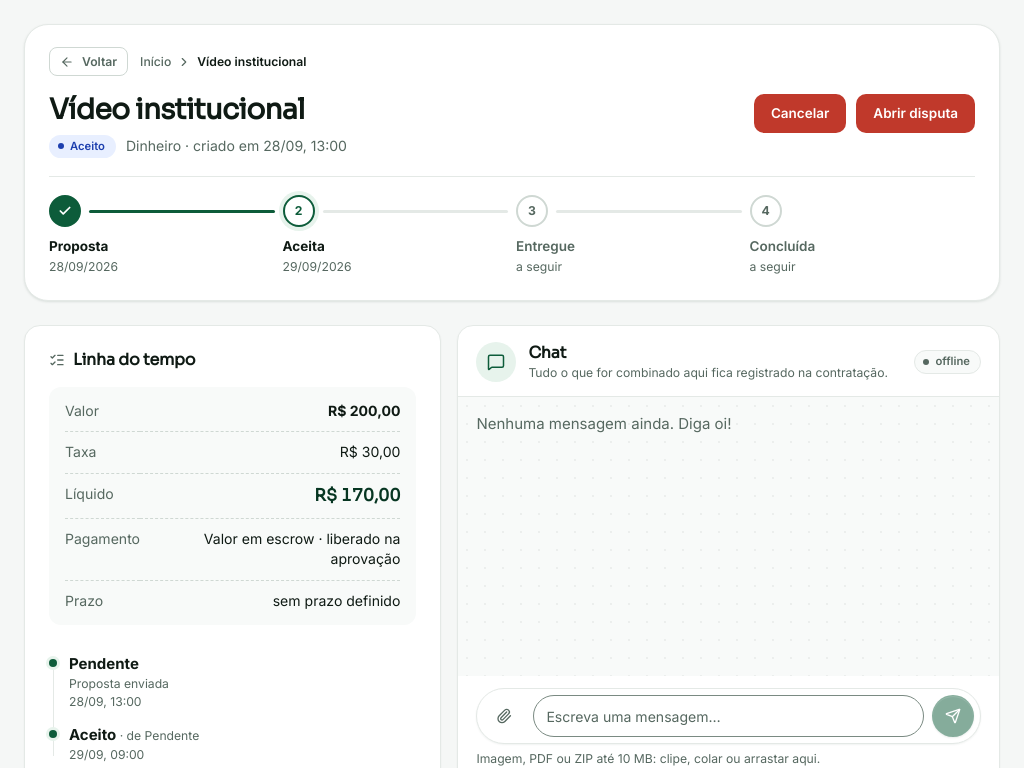
Scenario: SalaContratoView: enviar mensagem › envia o texto sem espaços nas pontas, mostra a mensagem e limpa o campo
Check: the heading "Vídeo institucional" is shown, box [49,92,305,127]
Type "  Combinado! " into the field with placeholder "Escreva uma mensagem…" at (729, 716), box [533,695,924,737]
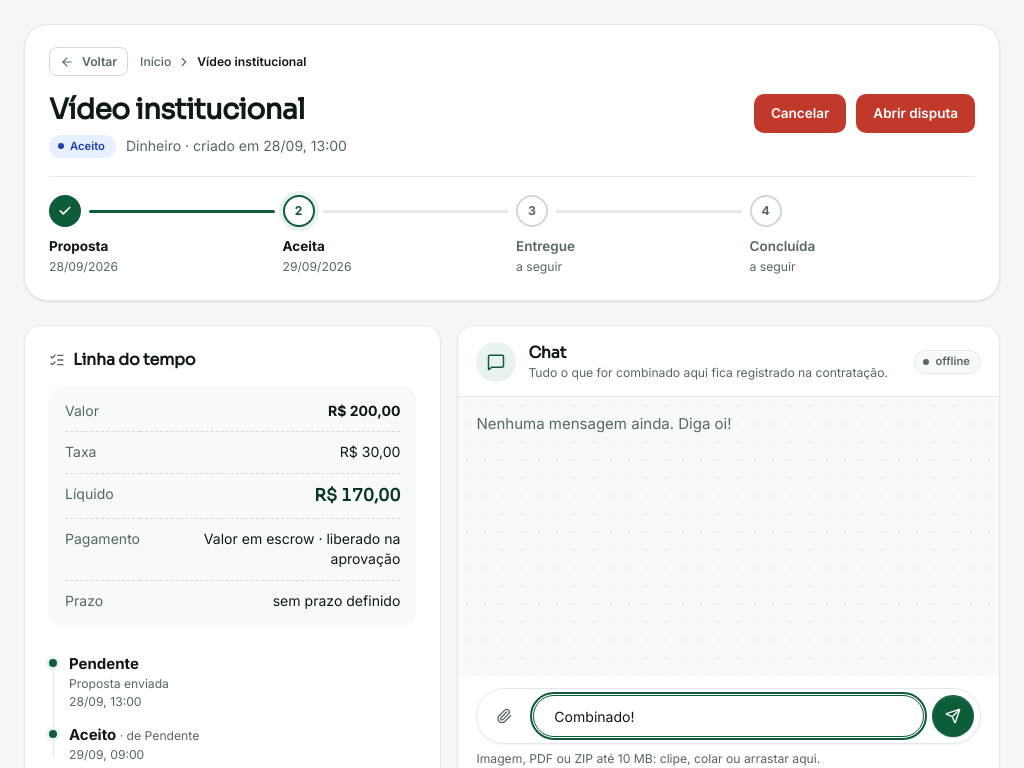
Click the button named "Enviar" at (953, 716), box [932,695,974,737]
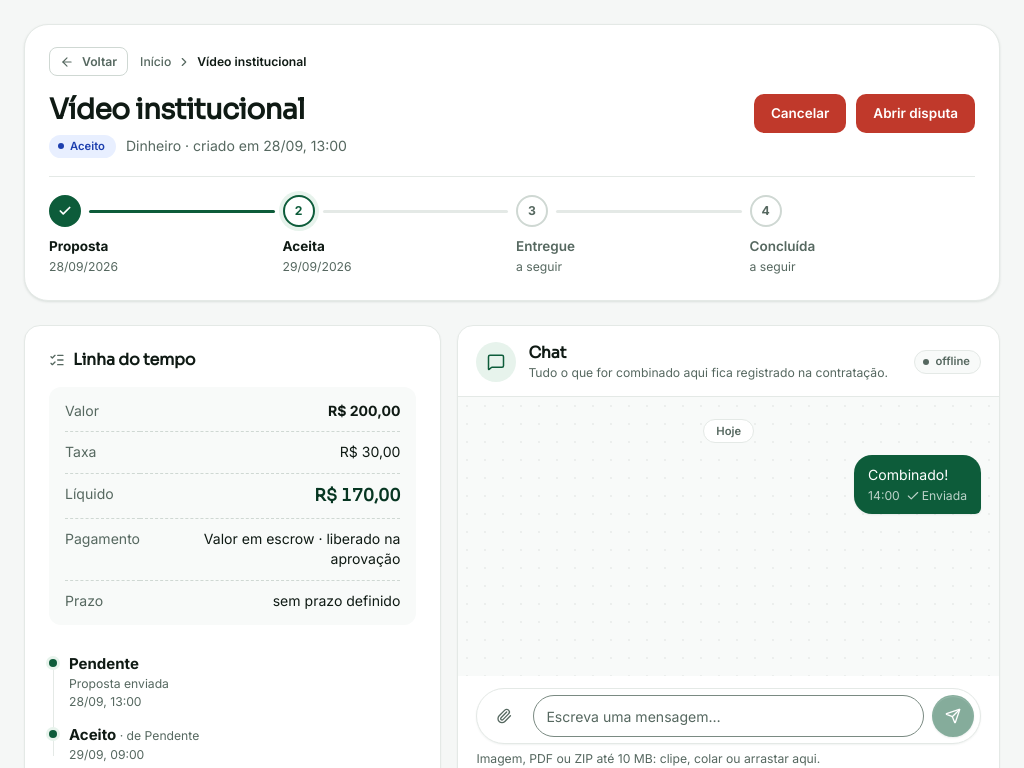
Check: the text "Combinado!" is shown, box [868,466,948,483]
Check: the field with placeholder "Escreva uma mensagem…" is empty, box [533,695,924,737]
Check: the button named "Enviar" is disabled, box [932,695,974,737]
